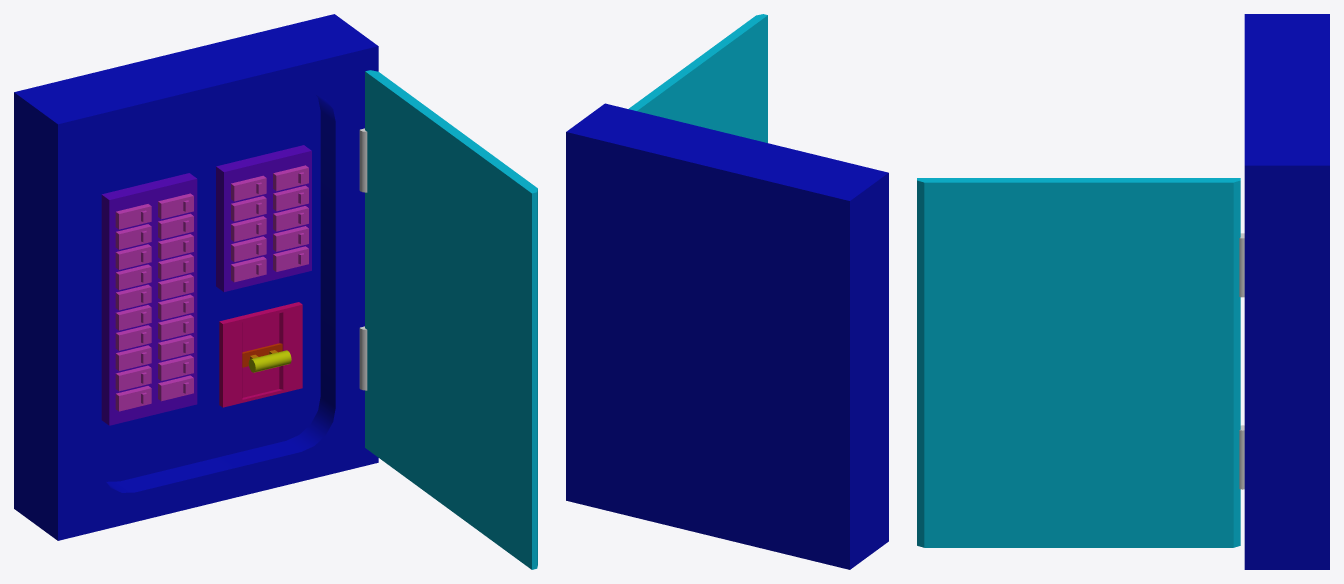
The model's file is breaker_box.glb.
The picture shows the model from 3 angles, left to right: view 1: azimuth 30°, elevation 25°; view 2: azimuth 150°, elevation 25°; view 3: azimuth 270°, elevation 25°; orthographic projection. The views are drawn at different scales.
Visible parts, largest first — view 1: Cube, Cube.002, Cube.006, Cube.001, Cube.007, Cube.005, Cube.004, Cylinder; view 2: Cube, Cube.002; view 3: Cube.002, Cube, Cylinder.
Boxes of the visible parts, box(x1,y1,x2,y2) form: Cube: box(14, 14, 378, 540); Cube.002: box(365, 70, 537, 569); Cube.006: box(115, 193, 193, 411); Cube.001: box(101, 173, 197, 425); Cube.007: box(231, 165, 308, 282); Cube.005: box(219, 302, 302, 407); Cube.004: box(216, 145, 311, 291); Cylinder: box(359, 128, 367, 390); Cube: box(566, 103, 888, 569); Cube.002: box(628, 14, 767, 142); Cube.002: box(917, 178, 1240, 547); Cube: box(1244, 14, 1329, 569); Cylinder: box(1239, 233, 1244, 489).
Size of the model in its own units: 1.21 by 1.5 by 1.39.
